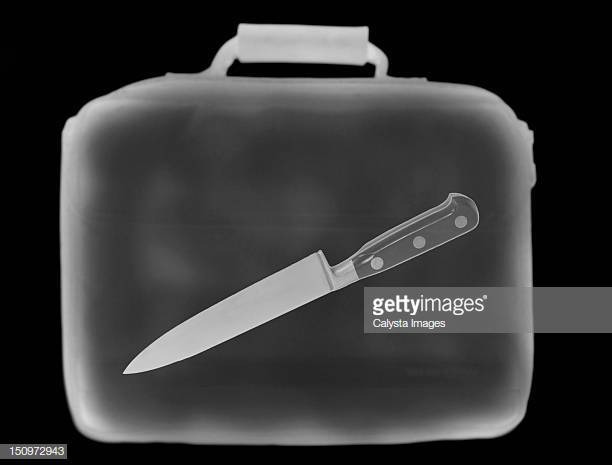knife: (123, 189, 473, 379)
